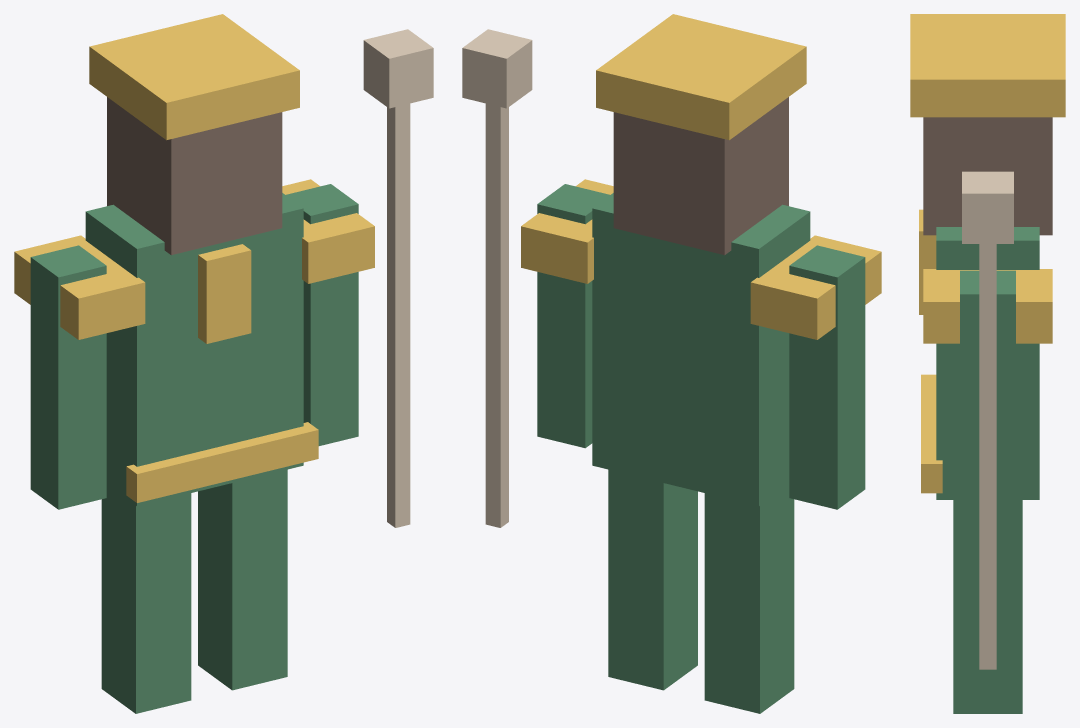
File: 06_varren_starfall_mechanist_near.glb
3 views of the same model, side by side, from view 1: azimuth 30°, elevation 25°; view 2: azimuth 150°, elevation 25°; view 3: azimuth 270°, elevation 25° (orthographic).
Parts seen in each view (by area): view 1: Varren Starfall, Mechanist near; view 2: Varren Starfall, Mechanist near; view 3: Varren Starfall, Mechanist near.
Boxes of the visible parts, box(x1,y1,x2,y2) form: Varren Starfall, Mechanist near: box(14, 14, 433, 713); Varren Starfall, Mechanist near: box(462, 14, 881, 713); Varren Starfall, Mechanist near: box(910, 14, 1065, 713).
Size of the model in its own units: 1.05 by 1.67 by 0.3729.
